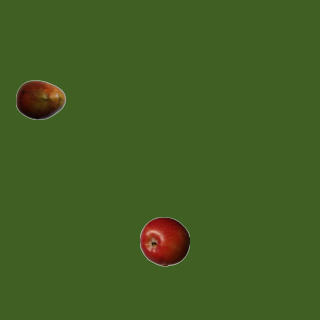Apple Braeburn: (139, 216, 189, 266)
Mango Red: (15, 74, 65, 124)
